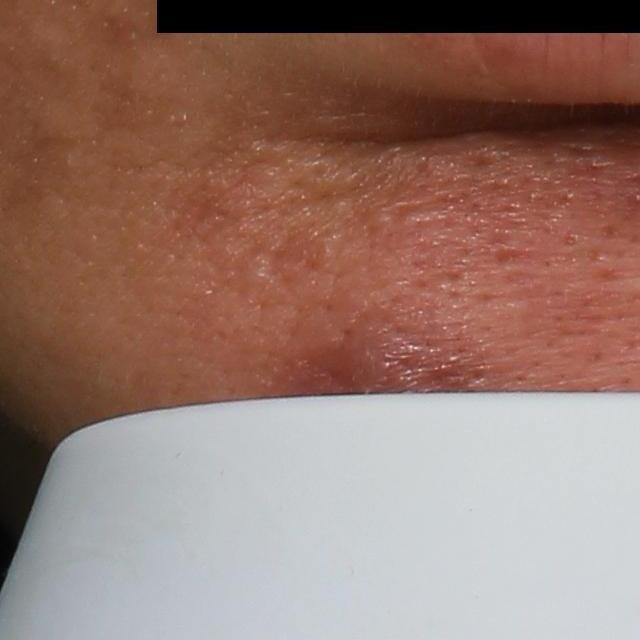comedo: (560, 228, 581, 252)
